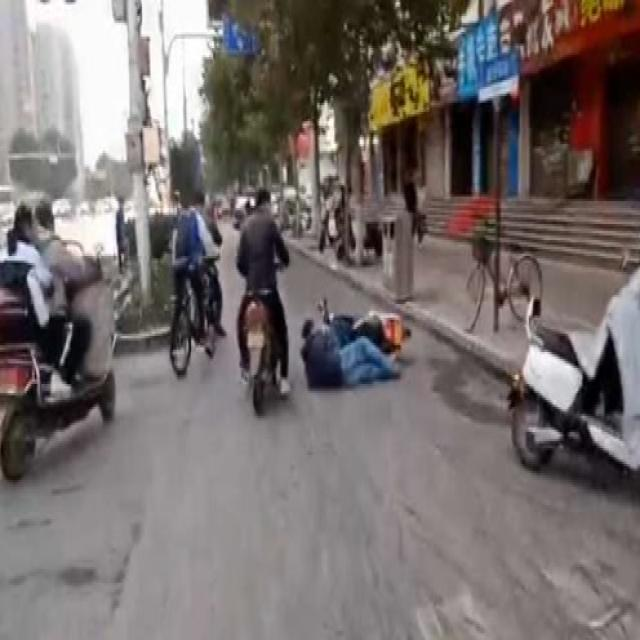fall: (296, 297, 402, 389)
